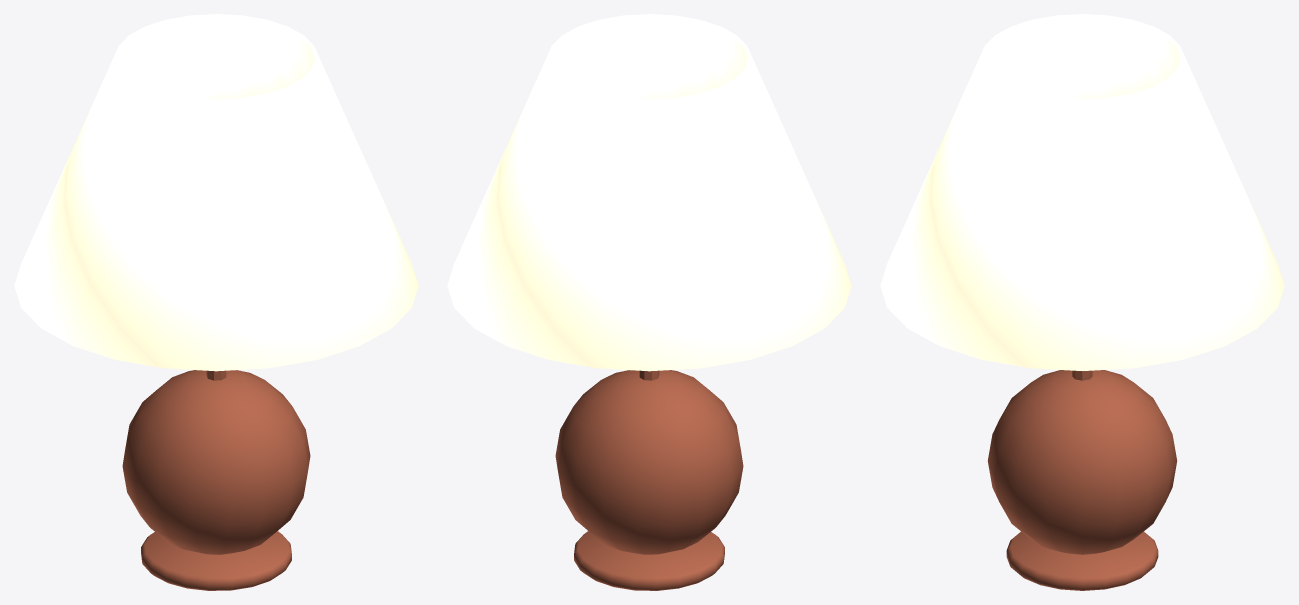
Rendered from i_tlamp_5.glb.
3 renders of one model, left to right at view 1: azimuth 30°, elevation 25°; view 2: azimuth 150°, elevation 25°; view 3: azimuth 270°, elevation 25°, orthographic.
Visible parts, largest first — view 1: o.003, o.001, o; view 2: o.003, o.001, o; view 3: o.003, o.001, o.
Part boxes in pixels (x1,y1,x2,y2): o.003: (14,14,418,371); o.001: (122,370,310,554); o: (141,531,291,590); o.003: (447,14,851,371); o.001: (555,370,743,554); o: (574,531,724,590); o.003: (880,14,1284,370); o.001: (987,370,1177,554); o: (1006,531,1158,590).
Size of the model in its own units: 0.32 by 0.44 by 0.32.
